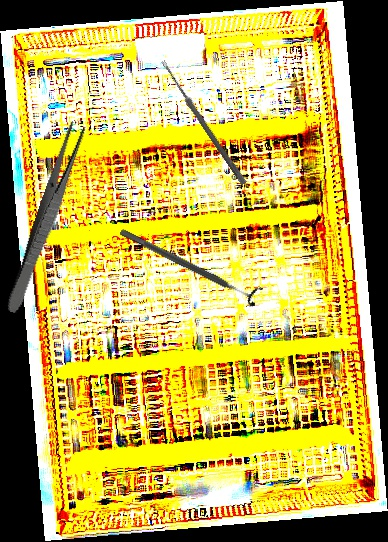Dressing Forceps: (3, 120, 89, 316)
Fixation Ring: (115, 220, 264, 310)
Surgical Spoon: (159, 59, 248, 186)
